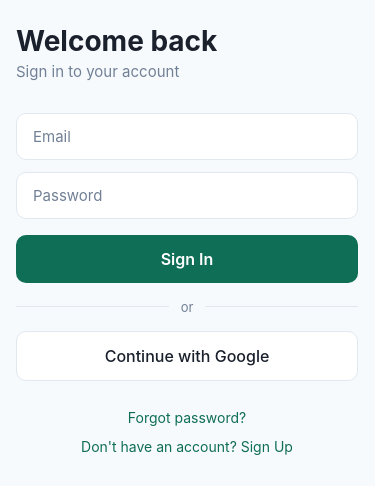
Scenario: SignInScreen › shows API error on failed sign in
This screenshot has width=375, height=486.
Type "user@example.com" into the field with placeholder "Email" at (187, 136), box [16,112,358,160]
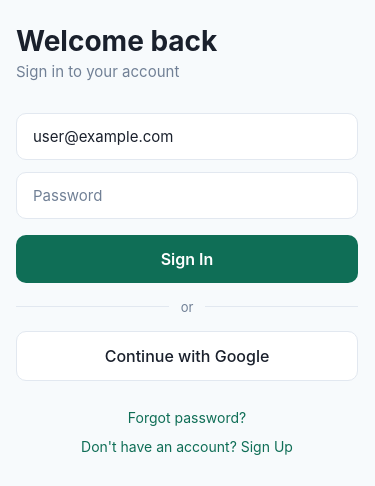
Type "password123" into the password field with placeholder "Password" at (187, 195), box [16,172,358,218]
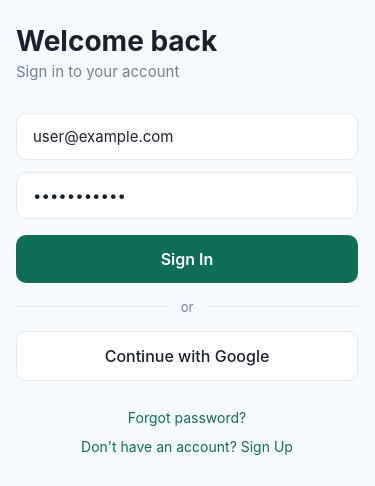
Click the text "Sign In" at (187, 258), box [161,248,213,268]
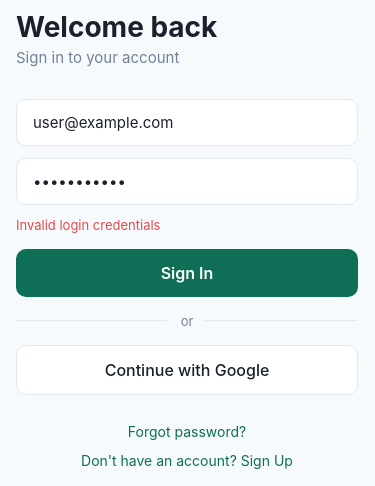
Check: the text "Invalid login credentials" is shown, box [16,216,160,232]
